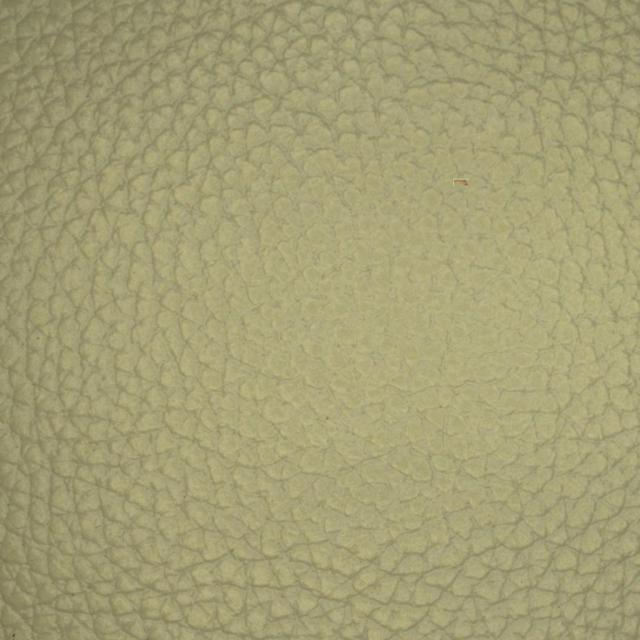pinhole: (371, 134, 560, 232)
